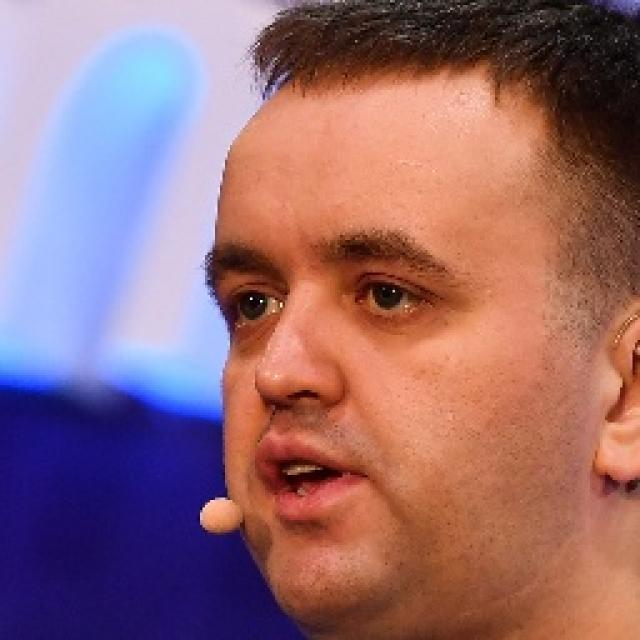earlobe: (597, 312, 640, 489)
